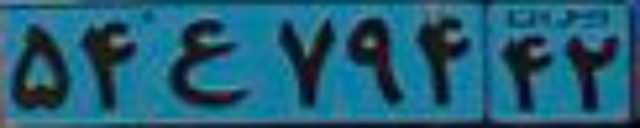2: (562, 36, 622, 111)
4: (75, 21, 142, 111), (415, 16, 473, 104), (496, 36, 554, 111)
5: (7, 24, 71, 109)
7: (275, 17, 337, 107)
9: (346, 17, 404, 104)
ain: (164, 18, 251, 106)
